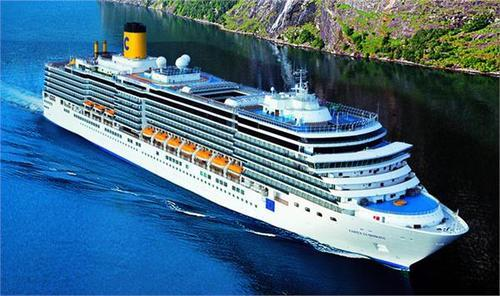Ship: (31, 22, 474, 271)
